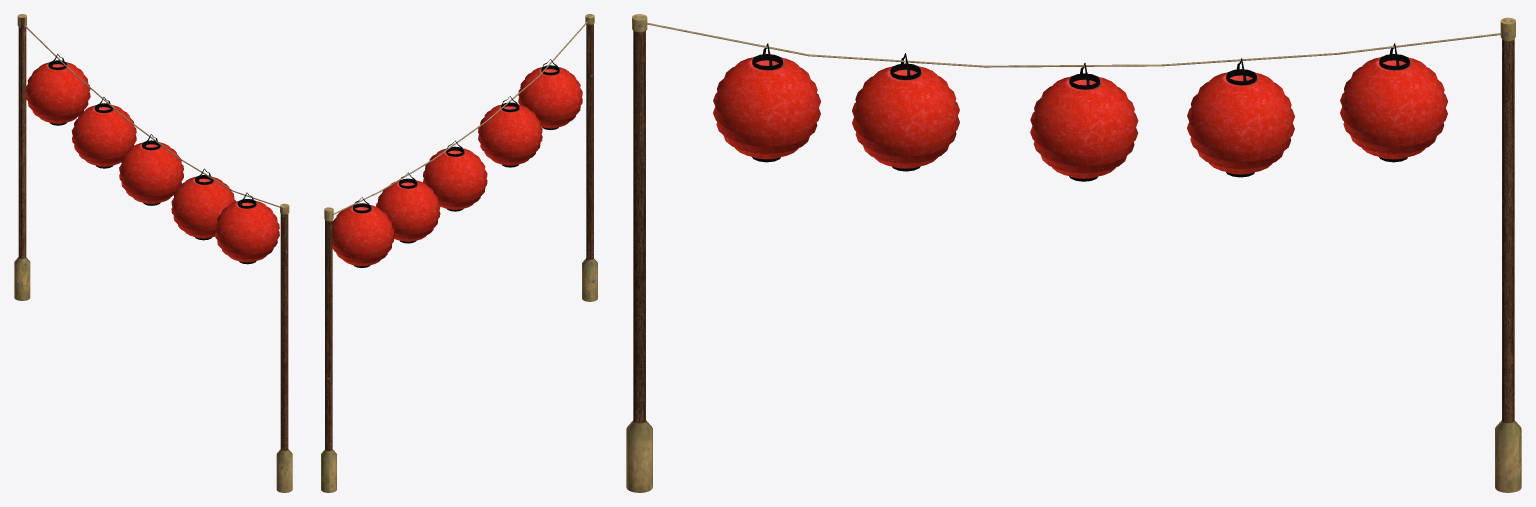
Rendered from lanternAndPoles5.fbx.
3 views of the same model, side by side, from view 1: azimuth 30°, elevation 25°; view 2: azimuth 150°, elevation 25°; view 3: azimuth 270°, elevation 25° (orthographic). The views are drawn at different scales.
Parts seen in each view (by area): view 1: paperLantern_red5, polesAndRope; view 2: paperLantern_red5, polesAndRope; view 3: paperLantern_red5, polesAndRope.
Boxes of the visible parts, x1,y1,x2,y2 form: paperLantern_red5: (25, 54, 279, 264); polesAndRope: (14, 14, 292, 492); paperLantern_red5: (332, 59, 582, 267); polesAndRope: (321, 14, 597, 492); paperLantern_red5: (713, 43, 1447, 181); polesAndRope: (626, 14, 1521, 492).
Size of the model in its own units: 2.04 by 9.5 by 16.4.
Materials: 2 (2 with a texture image).
